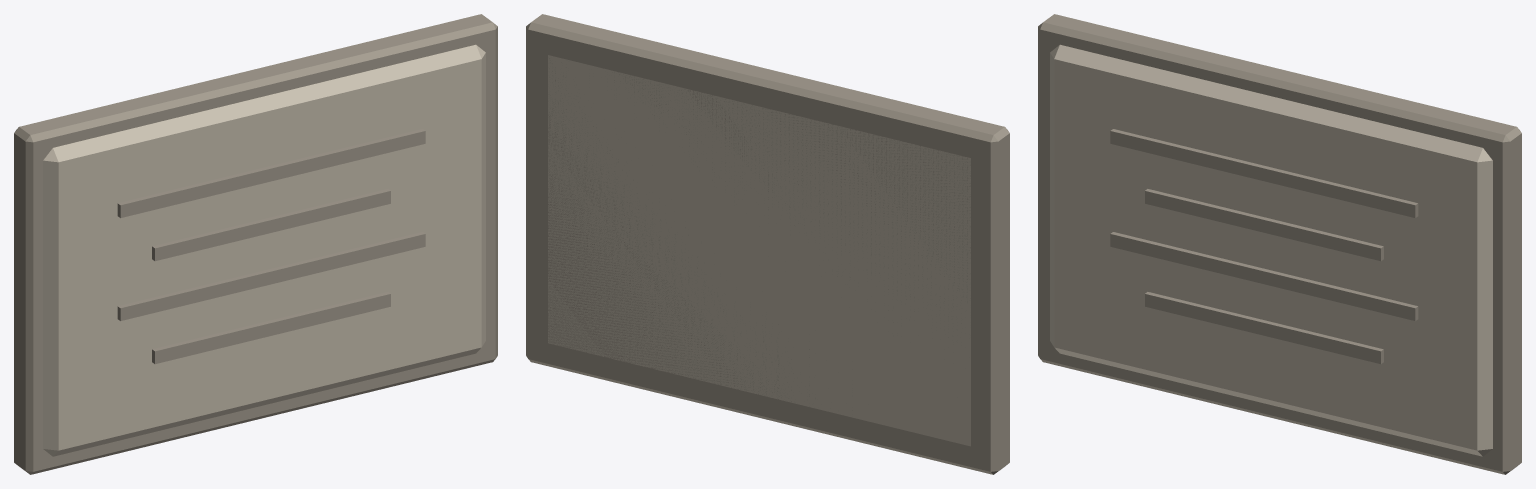
The model's file is TC_PROP_Plaque_V1.gltf.
3 views of the same model, side by side, from view 1: azimuth 30°, elevation 25°; view 2: azimuth 150°, elevation 25°; view 3: azimuth 330°, elevation 25° (orthographic).
Parts seen in each view (by area): view 1: TC_Plaque_Slab, TC_Plaque_Frame, TC_Plaque_Carving_0, TC_Plaque_Carving_2, TC_Plaque_Carving_3, TC_Plaque_Carving_1; view 2: TC_Plaque_Slab, TC_Plaque_Frame; view 3: TC_Plaque_Slab, TC_Plaque_Frame, TC_Plaque_Carving_0, TC_Plaque_Carving_2, TC_Plaque_Carving_3, TC_Plaque_Carving_1.
Boxes of the visible parts, box(x1,y1,x2,y2) form: TC_Plaque_Slab: box(43, 44, 485, 456); TC_Plaque_Frame: box(14, 14, 497, 474); TC_Plaque_Carving_0: box(117, 129, 425, 218); TC_Plaque_Carving_2: box(117, 232, 425, 320); TC_Plaque_Carving_3: box(152, 292, 390, 364); TC_Plaque_Carving_1: box(152, 189, 390, 261); TC_Plaque_Slab: box(548, 55, 970, 446); TC_Plaque_Frame: box(526, 14, 1009, 474); TC_Plaque_Slab: box(1050, 44, 1492, 456); TC_Plaque_Frame: box(1038, 14, 1521, 474); TC_Plaque_Carving_0: box(1110, 129, 1418, 218); TC_Plaque_Carving_2: box(1110, 232, 1418, 320); TC_Plaque_Carving_3: box(1145, 292, 1383, 364); TC_Plaque_Carving_1: box(1145, 189, 1383, 261).
Size of the model in its own units: 0.96 by 0.66 by 0.09.
